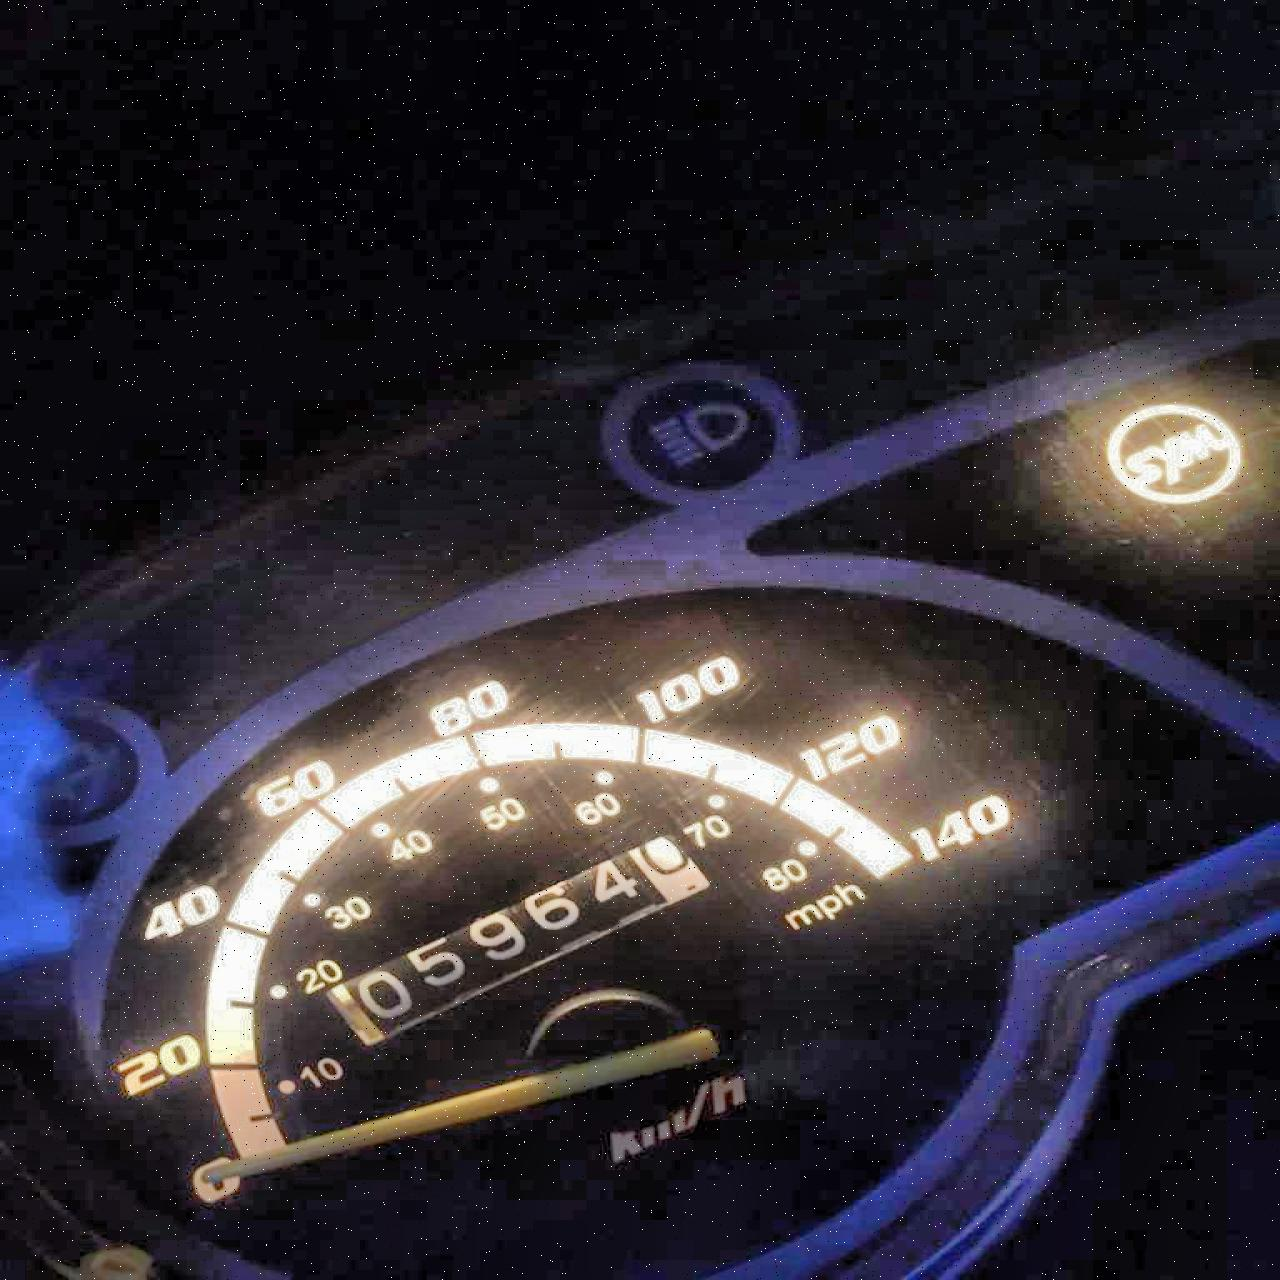0: (355, 967, 410, 1017), (636, 832, 688, 876), (343, 896, 372, 919), (403, 829, 431, 851), (316, 956, 340, 980)
3: (321, 904, 350, 926)
4: (592, 858, 636, 904), (388, 838, 414, 860)
5: (404, 935, 463, 986)
6: (520, 881, 577, 930)
7: (680, 829, 707, 845)
9: (465, 912, 526, 962)
odometer: (316, 829, 715, 1048)
